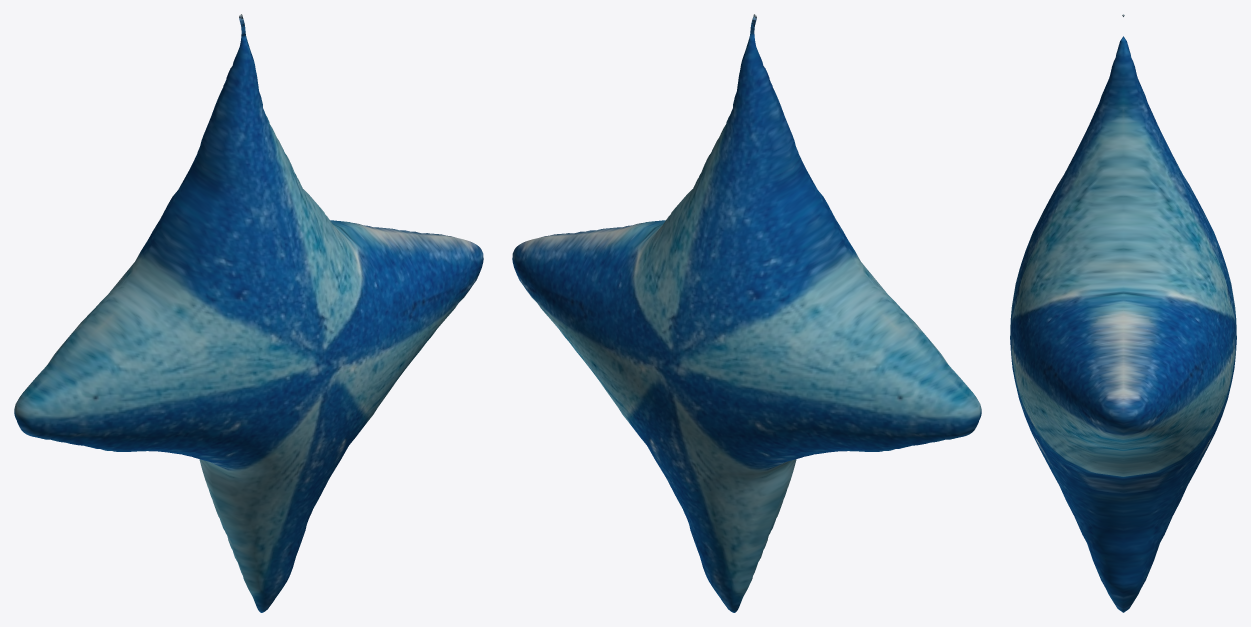
The model's file is star.glb.
3 renders of one model, left to right at view 1: azimuth 30°, elevation 25°; view 2: azimuth 150°, elevation 25°; view 3: azimuth 270°, elevation 25°, orthographic. The views are drawn at different scales.
Size of the model in its own units: 3.37 by 4.17 by 1.46.
1 material, 1 textured.
